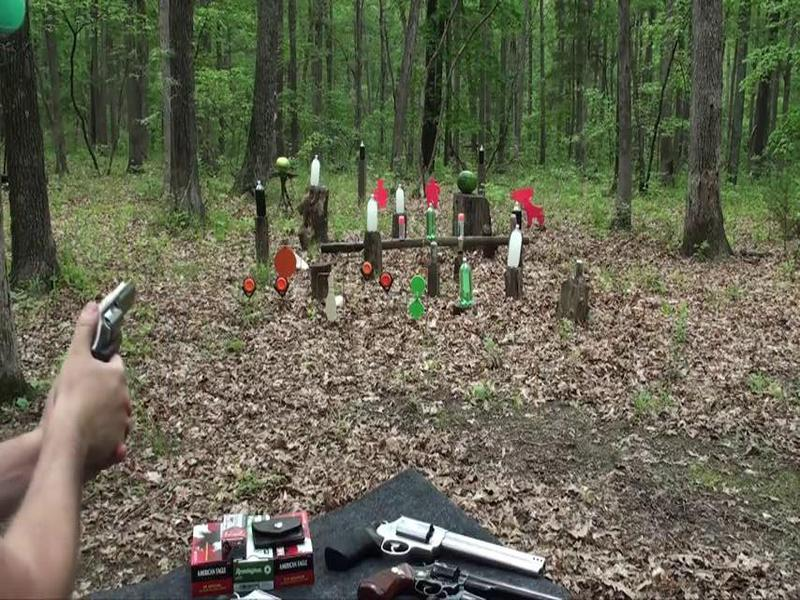Revolver: (66, 270, 159, 374)
